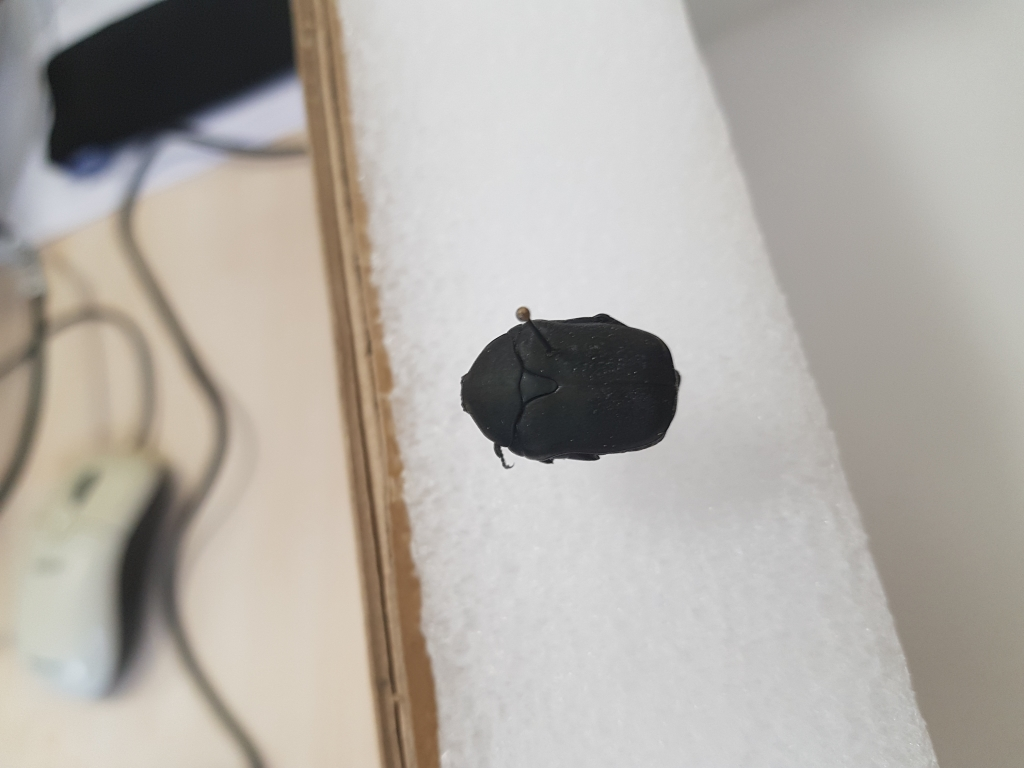Protaetia_afflicta: (449, 308, 685, 475)
